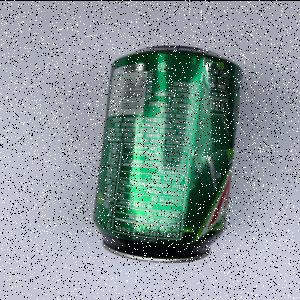Can: (93, 46, 245, 264)
